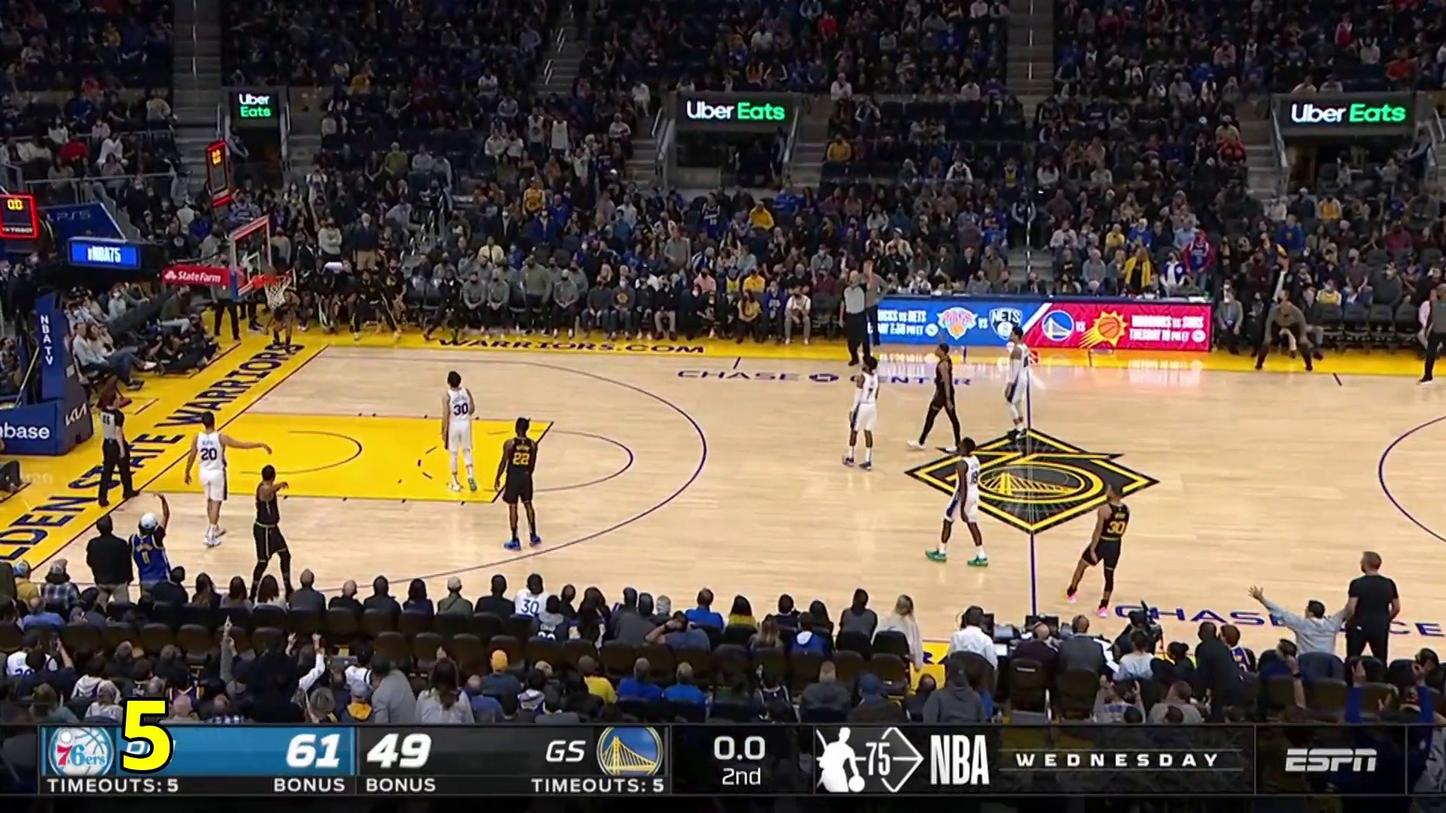basket_hoop: (199, 205, 330, 314)
